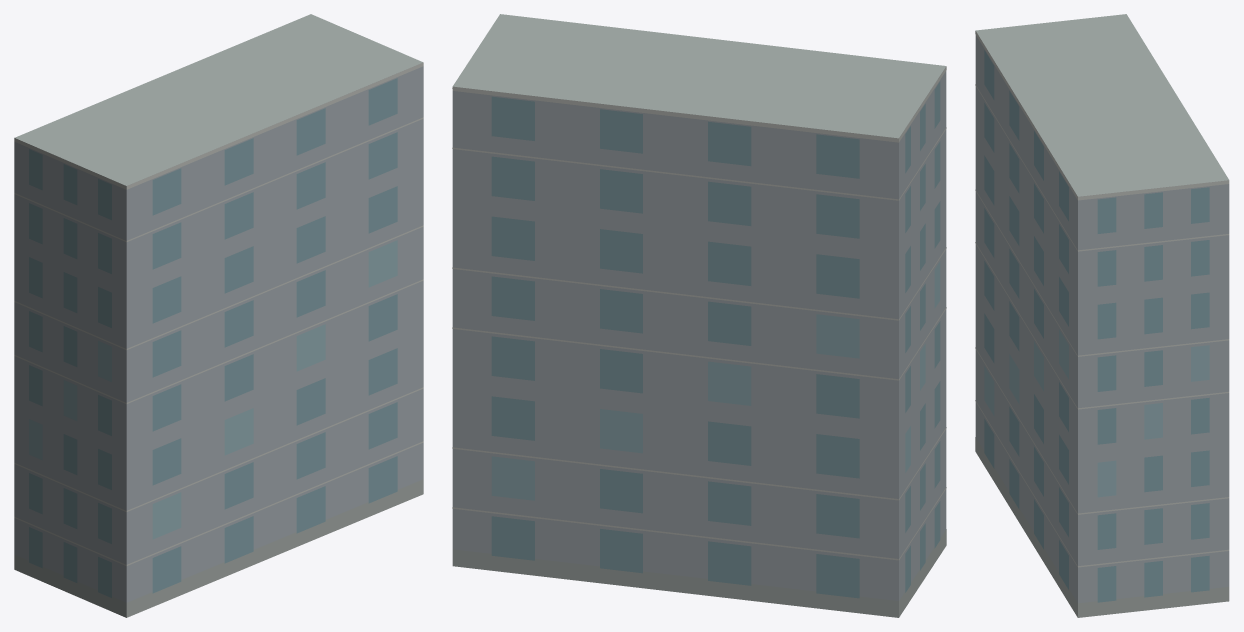
File: survey-upis-32649694.glb
The picture shows the model from 3 angles, left to right: view 1: azimuth 30°, elevation 25°; view 2: azimuth 150°, elevation 25°; view 3: azimuth 270°, elevation 25°; orthographic projection. The views are drawn at different scales.
Visible parts, largest first — view 1: survey-upis-32649694.tmp; view 2: survey-upis-32649694.tmp; view 3: survey-upis-32649694.tmp.
Part boxes in pixels (left/top/right/bottom): survey-upis-32649694.tmp: left=14, top=14, right=423, bottom=617; survey-upis-32649694.tmp: left=452, top=14, right=946, bottom=617; survey-upis-32649694.tmp: left=975, top=14, right=1229, bottom=617.
Size of the model in its own units: 25.53 by 27.4 by 15.
